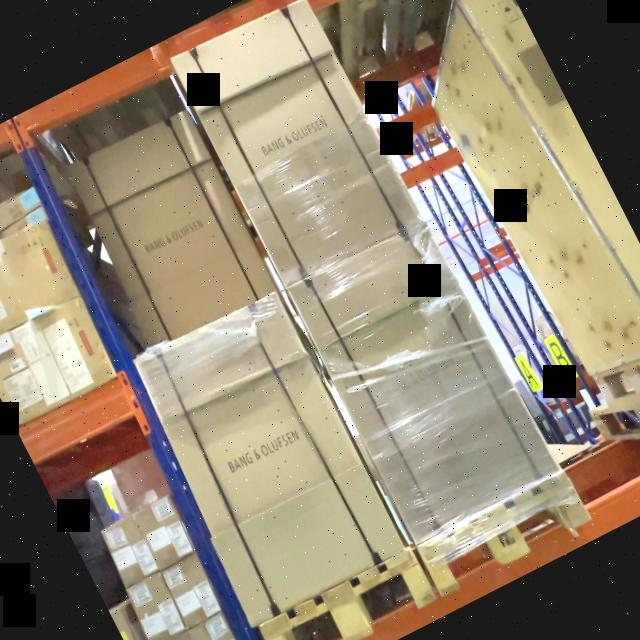box: (284, 220, 558, 548), (134, 293, 405, 624), (171, 0, 425, 290), (0, 221, 79, 334), (161, 553, 220, 628), (134, 495, 192, 567), (101, 515, 159, 586), (128, 573, 187, 640), (0, 186, 42, 231), (190, 610, 235, 640)
